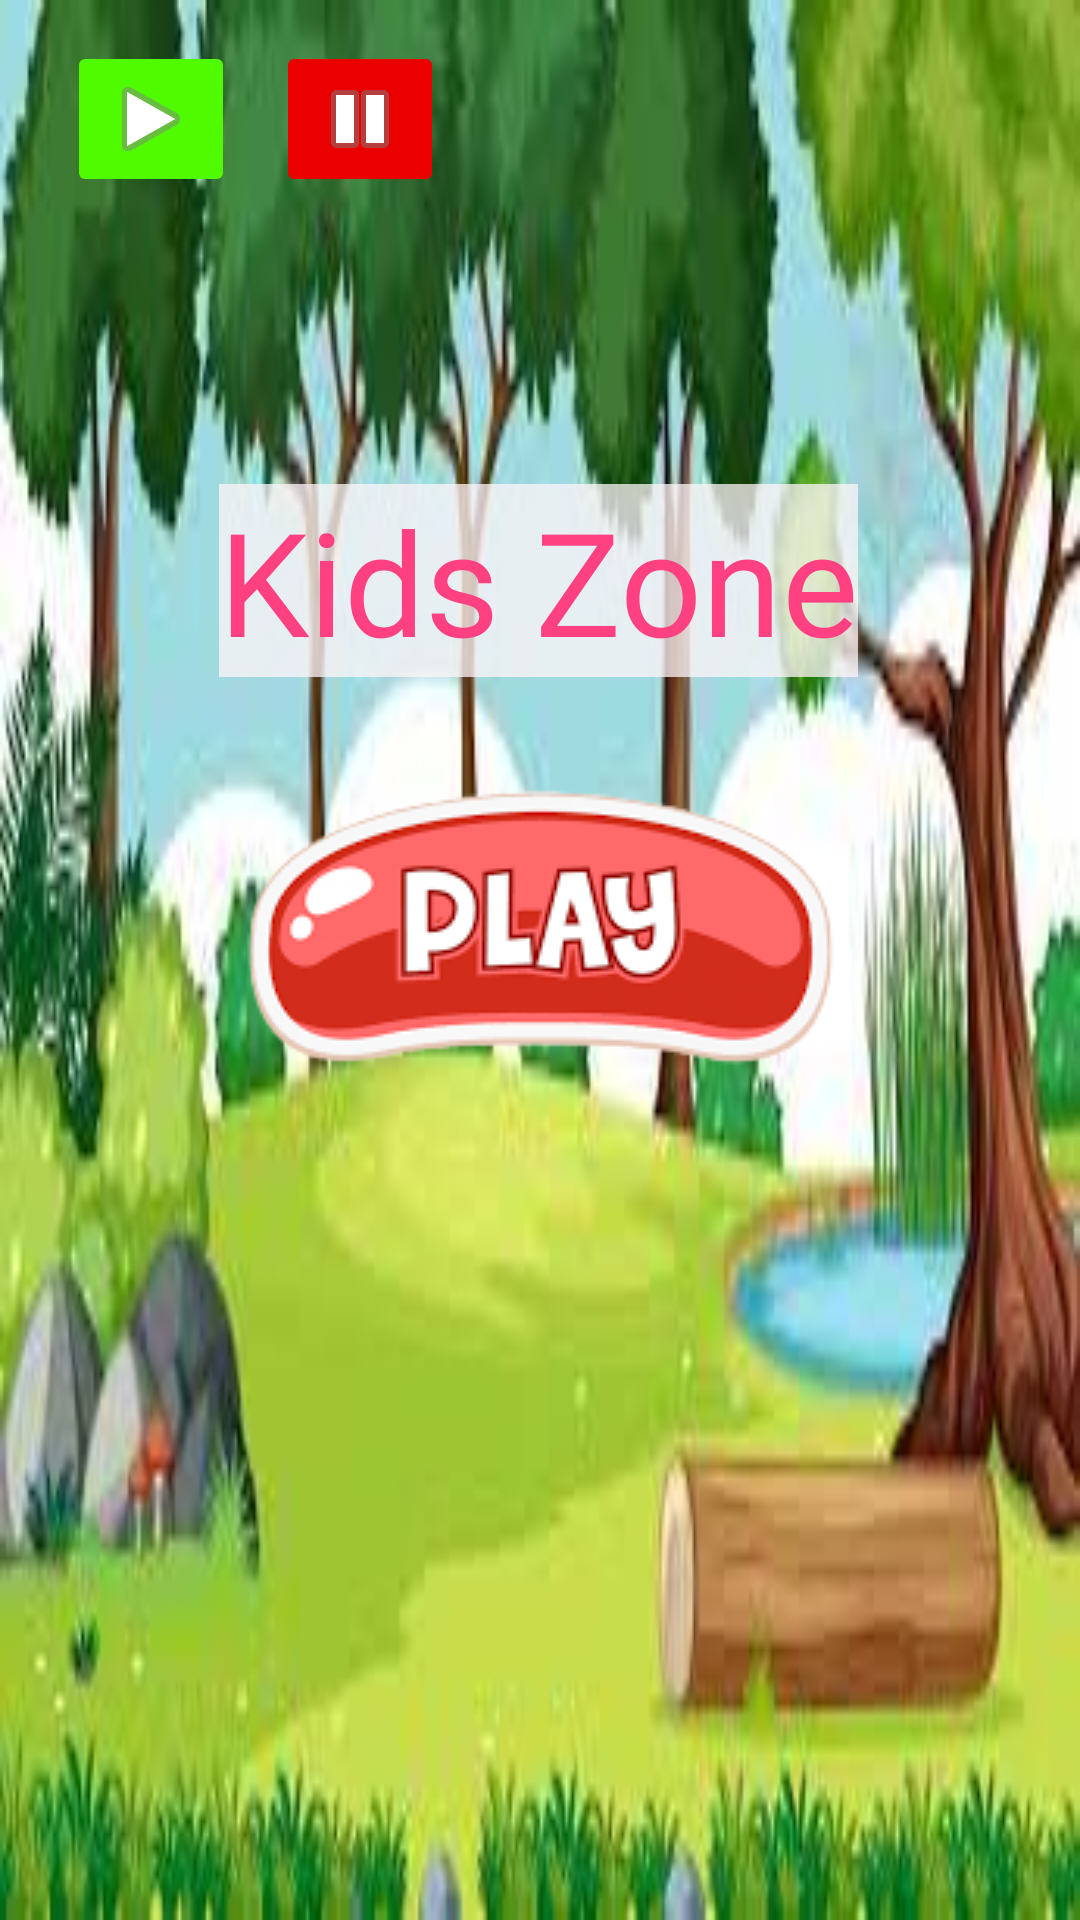

Screen size 1080*1920. Icon name, then its center in pixels as (x=x, y=y):
pause: (x=360, y=119)
play: (x=156, y=119)
